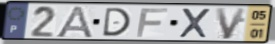2: (29, 5, 59, 38)
A: (53, 5, 95, 39)
D: (101, 7, 133, 38)
F: (135, 7, 170, 39)
V: (214, 7, 249, 41)
X: (177, 7, 213, 40)
